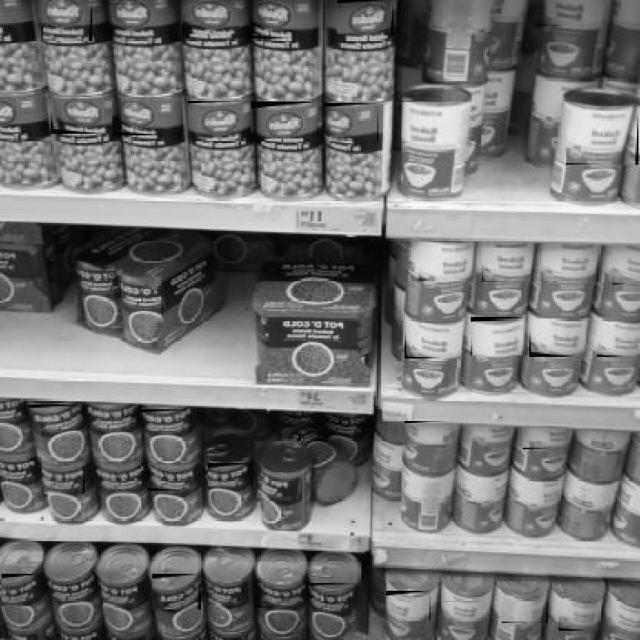Beans: (564, 111, 638, 166), (397, 101, 469, 153), (186, 100, 254, 140), (111, 98, 180, 137), (250, 102, 318, 140), (108, 3, 166, 46), (49, 99, 114, 136), (469, 317, 529, 357), (416, 242, 475, 282), (528, 319, 586, 359), (248, 5, 312, 41), (323, 104, 379, 144), (335, 0, 394, 37), (403, 323, 462, 360), (42, 0, 92, 42), (537, 251, 598, 283), (480, 248, 531, 283), (536, 1, 602, 28), (152, 574, 199, 611), (92, 574, 142, 608), (182, 6, 238, 36), (254, 578, 306, 610), (596, 322, 638, 360), (384, 590, 430, 622), (307, 584, 356, 614), (556, 598, 599, 632), (28, 404, 83, 430), (0, 574, 42, 608), (521, 426, 577, 451), (146, 464, 194, 493), (256, 472, 302, 502), (500, 596, 548, 624), (98, 464, 140, 496), (39, 467, 84, 496), (83, 404, 135, 428), (403, 420, 449, 446), (442, 600, 488, 625), (206, 463, 252, 488), (202, 579, 242, 606), (140, 410, 189, 432), (472, 429, 510, 456), (611, 249, 638, 286)
